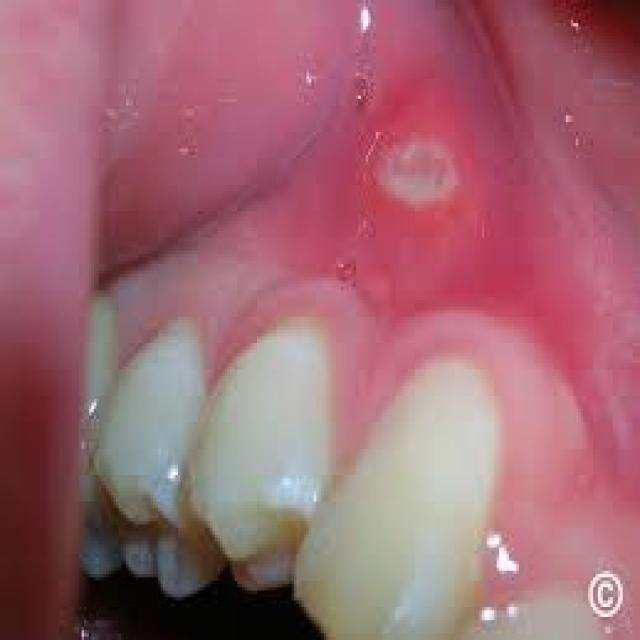processing_area: (4, 0, 638, 610)
ulcer-detection: (346, 97, 508, 259)
